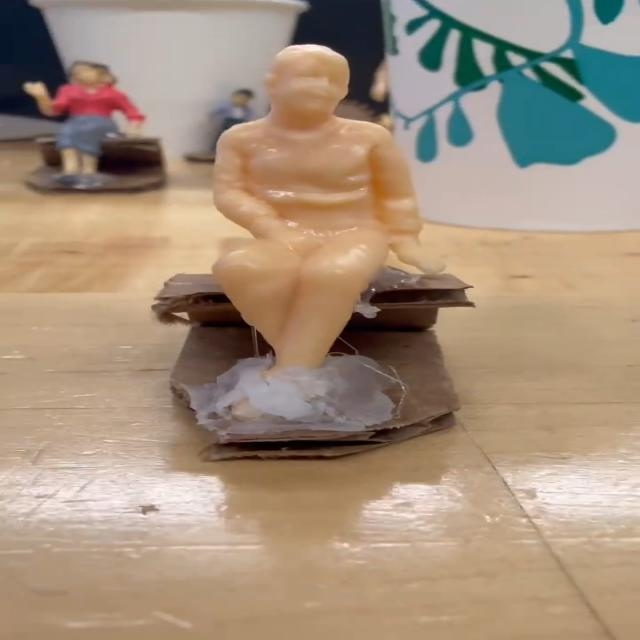Unauthorized: (156, 16, 472, 431)
